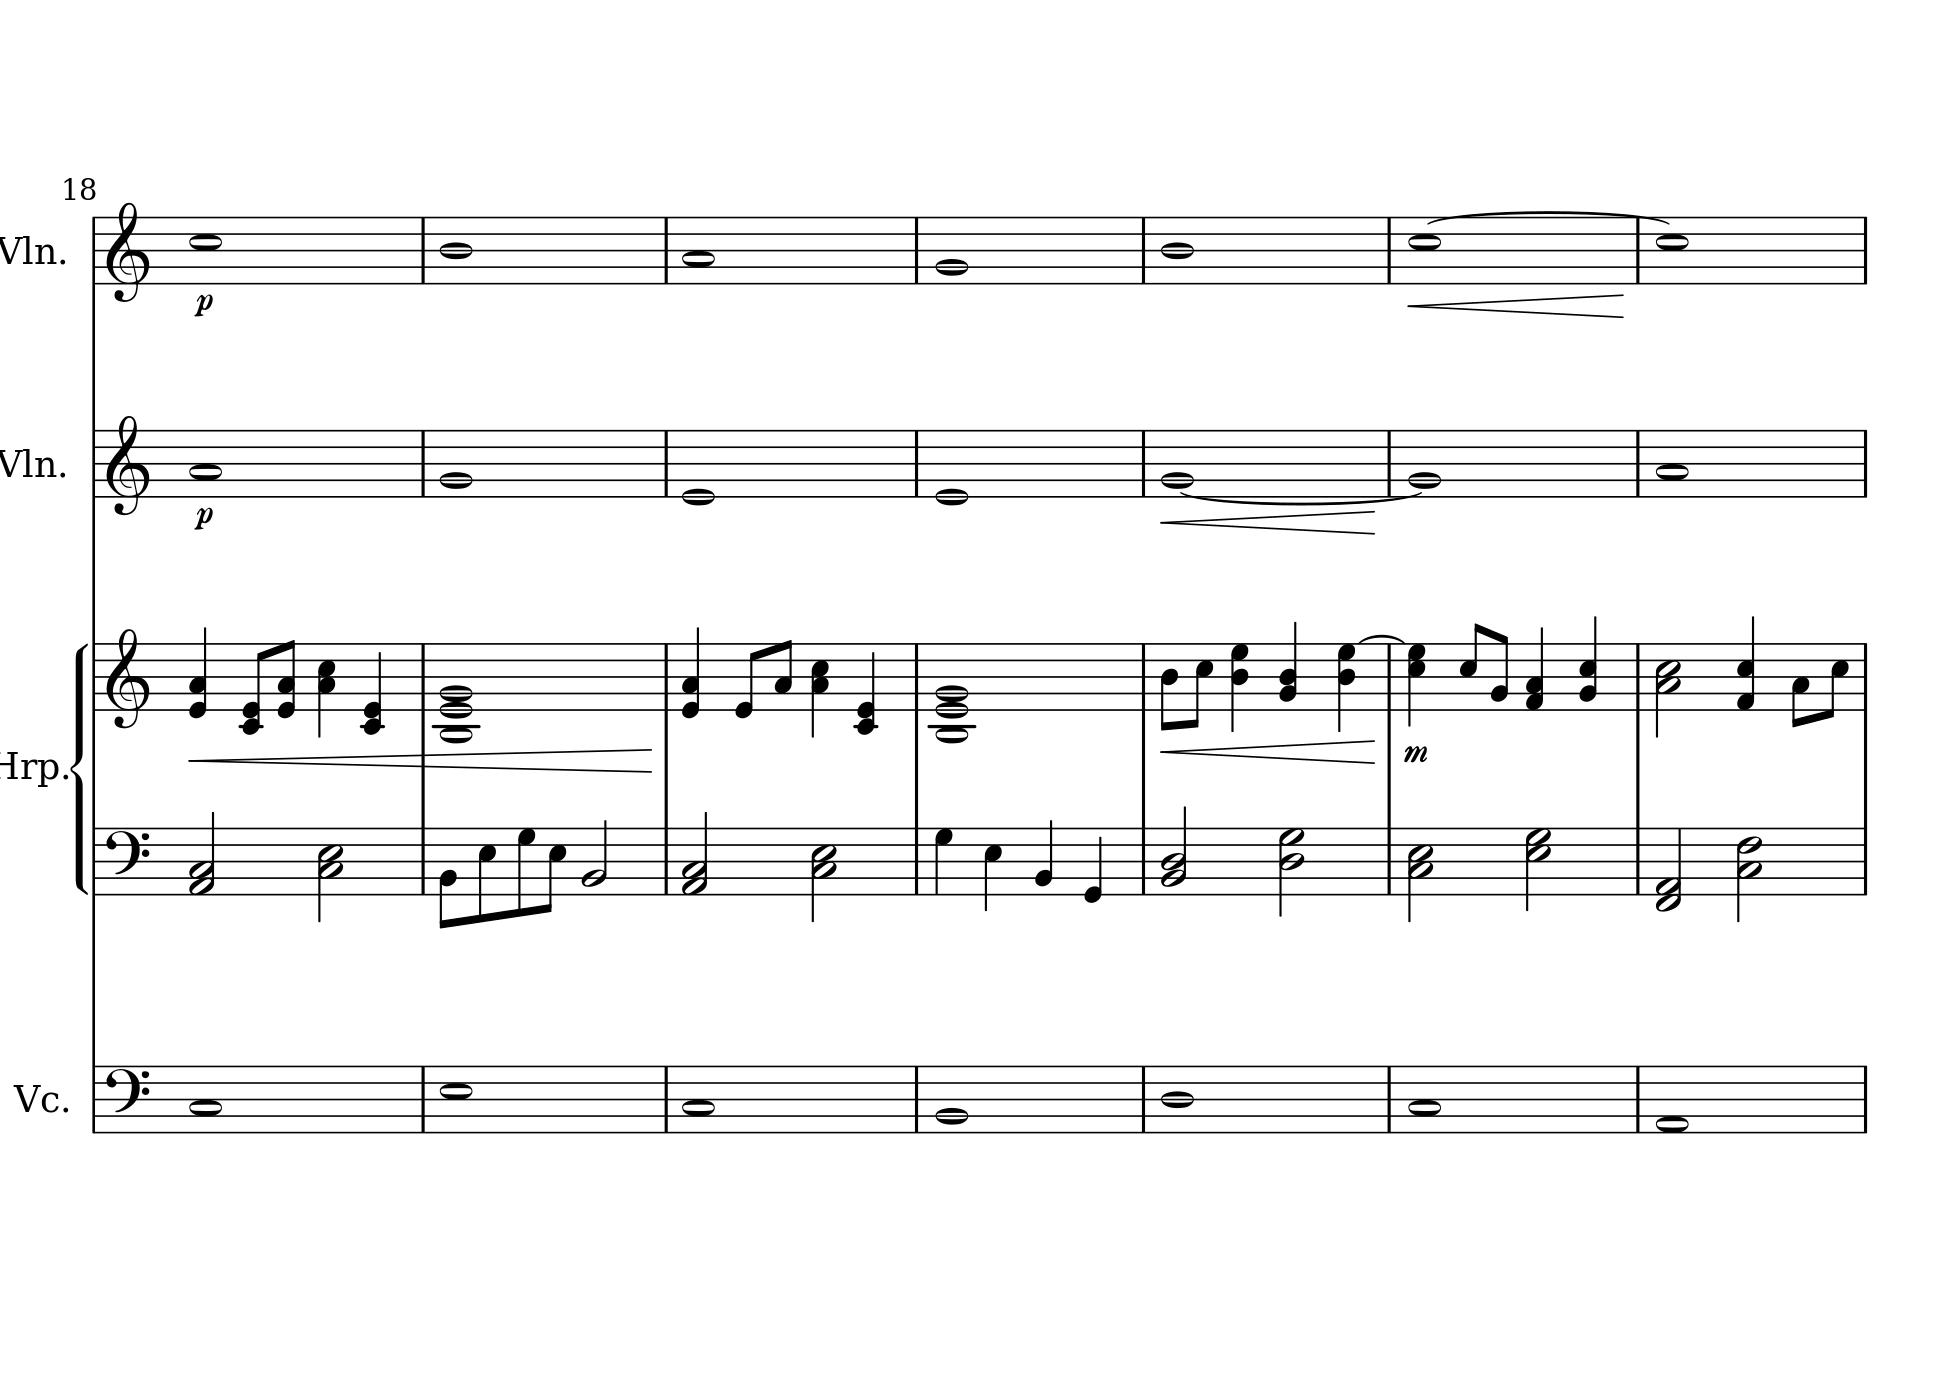1: (61, 174, 76, 202)
1_0: (679, 424, 717, 508), (933, 424, 970, 507)
1_1: (1656, 1062, 1690, 1137)
1_2: (931, 1060, 970, 1135), (931, 213, 970, 286), (436, 426, 475, 499), (1158, 426, 1197, 499), (1407, 426, 1443, 499)
1_3: (679, 213, 715, 285), (1407, 1063, 1443, 1134), (1654, 427, 1689, 499), (187, 427, 222, 498), (681, 1063, 715, 1134), (189, 1063, 222, 1135)
1_4: (1158, 214, 1197, 286), (1159, 1062, 1197, 1135), (438, 214, 472, 285)
1_5: (1407, 214, 1443, 286), (1654, 214, 1690, 286), (438, 1063, 474, 1135), (187, 214, 222, 283)
1_th: (433, 643, 481, 748), (928, 643, 975, 745)
2_-1_1: (1654, 825, 1684, 913)
2_1_3: (187, 810, 217, 897), (681, 811, 709, 898)
2_2: (580, 817, 609, 895)
2_2_4: (1159, 802, 1191, 897)
2_3_5: (1405, 826, 1437, 925), (810, 826, 838, 928), (316, 826, 346, 922), (1656, 643, 1683, 741)
2_3_6: (1734, 825, 1764, 924)
2_4_7: (1278, 825, 1306, 921)
2_5_7: (1524, 825, 1554, 913)
4_-2_0: (358, 640, 387, 735), (853, 640, 879, 736)
4_0: (1083, 825, 1105, 904)
4_0_3: (186, 628, 211, 718), (679, 625, 703, 720)
4_1_3: (1524, 625, 1548, 712)
4_1_5: (1734, 615, 1759, 712)
4_2: (1032, 817, 1056, 897)
4_2_4: (1278, 621, 1300, 712)
4_2_5: (1578, 616, 1600, 712)
4_3_5: (316, 640, 337, 739), (810, 640, 831, 736)
4_4_7: (1336, 640, 1359, 733), (1230, 640, 1251, 735)
4_5: (982, 825, 1005, 913)
4_5_7: (1407, 640, 1428, 730)
4_7: (933, 826, 955, 895)
8: (78, 174, 96, 201)
8_-2_0: (235, 640, 265, 735)
8_0: (732, 642, 760, 721)
8_0_3: (276, 637, 298, 720)
8_2: (436, 826, 457, 931), (1489, 631, 1510, 712)
8_3: (1789, 640, 1810, 729), (772, 637, 793, 712)
8_4: (1161, 640, 1179, 730)
8_5: (1458, 621, 1485, 712), (1188, 640, 1215, 730), (541, 823, 568, 913), (1824, 640, 1851, 718), (475, 826, 496, 922)
8_7: (514, 825, 535, 916)
Brace: (69, 637, 88, 895)
Crescendo_hairpin: (187, 748, 655, 775), (1159, 739, 1377, 769), (1405, 294, 1626, 319), (1161, 510, 1380, 535)
Fclef: (105, 826, 151, 897), (105, 1063, 151, 1134)
Gclef: (103, 625, 151, 730), (105, 199, 151, 303), (103, 412, 150, 516)
Hrp: (1, 747, 58, 787)
Single_barline: (1381, 643, 1401, 711), (1134, 430, 1153, 496), (657, 643, 675, 711), (1135, 643, 1153, 711), (1629, 1065, 1647, 1132), (657, 217, 675, 283), (907, 217, 925, 283), (1135, 217, 1153, 283), (907, 430, 925, 496), (1629, 430, 1647, 496), (414, 643, 432, 709), (907, 643, 925, 709), (907, 826, 925, 892), (414, 1066, 432, 1132), (907, 1066, 925, 1131), (85, 216, 102, 285), (87, 429, 103, 498), (415, 826, 432, 895), (1380, 430, 1398, 493), (1857, 216, 1873, 283), (1381, 826, 1398, 894), (1857, 828, 1873, 895), (85, 1065, 102, 1132), (1857, 1065, 1873, 1132), (415, 217, 432, 283), (1381, 217, 1398, 283), (415, 430, 432, 496), (658, 430, 675, 496), (1857, 430, 1873, 496), (87, 643, 103, 709), (1630, 643, 1647, 709), (658, 1066, 675, 1132), (1135, 1066, 1152, 1132), (1381, 1066, 1398, 1132), (1858, 642, 1873, 711), (1630, 826, 1645, 894), (658, 828, 673, 894), (1137, 828, 1152, 894), (1630, 226, 1647, 283), (88, 828, 102, 894)
Slur: (1359, 633, 1404, 645)
Vln: (1, 229, 57, 271), (1, 442, 57, 484)
m: (1401, 742, 1431, 766)
p: (192, 292, 214, 319), (192, 505, 214, 532)
